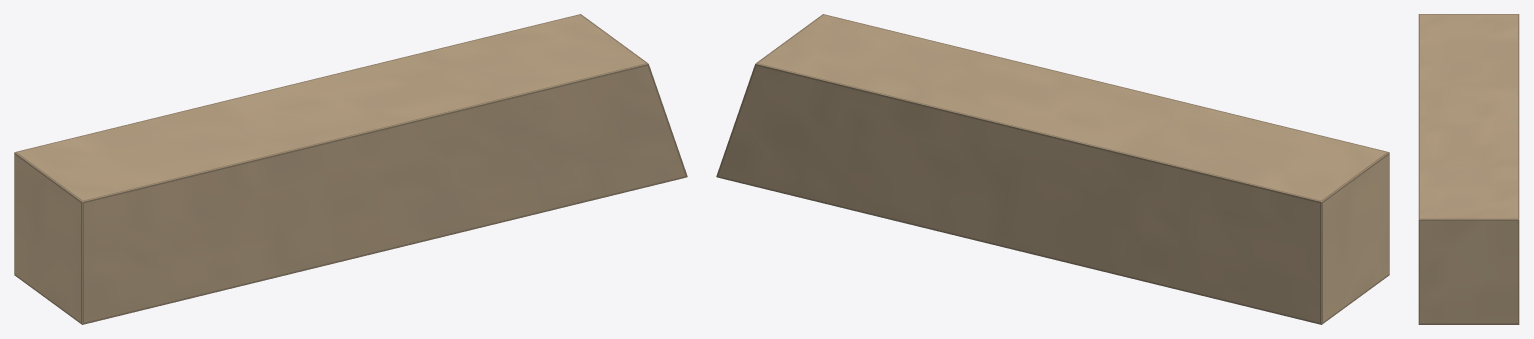
The picture shows the model from 3 angles, left to right: view 1: azimuth 30°, elevation 25°; view 2: azimuth 150°, elevation 25°; view 3: azimuth 270°, elevation 25°; orthographic projection. The views are drawn at different scales.
Visible parts, largest first — view 1: part-b; view 2: part-b; view 3: part-b.
Boxes of the visible parts, x1,y1,x2,y2 form: part-b: [14, 14, 687, 324]; part-b: [716, 14, 1389, 324]; part-b: [1418, 14, 1519, 324].
Bounding box in the file's own units: 0.6208 × 0.1208 × 0.1208.
